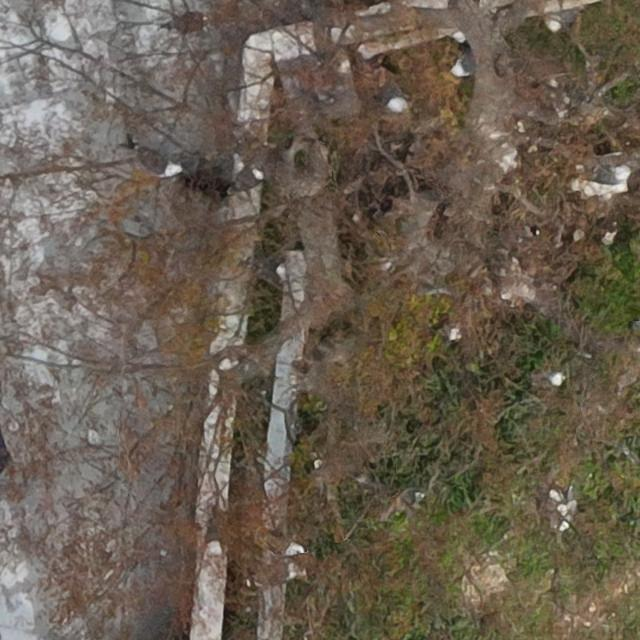umineko: (132, 144, 185, 177), (226, 166, 269, 198), (573, 164, 631, 186), (250, 562, 305, 585), (206, 507, 230, 558), (539, 9, 584, 30), (270, 531, 304, 558), (384, 82, 408, 115), (450, 56, 475, 78)
